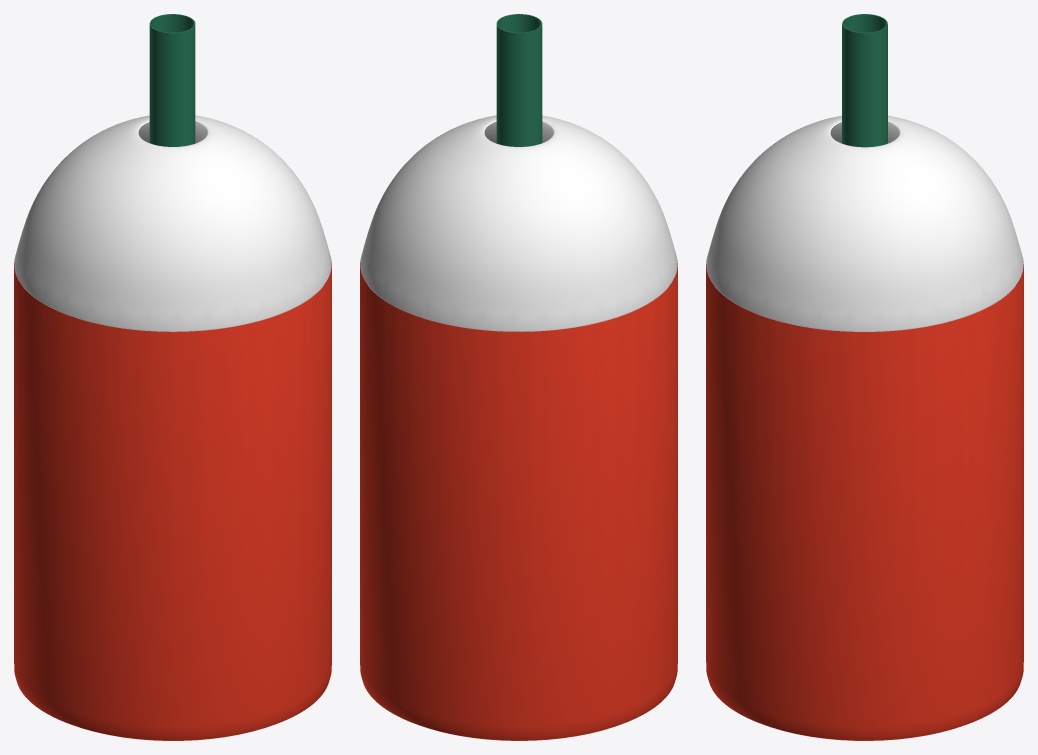
The model's file is FRAPPUCCINO.fbx.
3 renders of one model, left to right at view 1: azimuth 30°, elevation 25°; view 2: azimuth 150°, elevation 25°; view 3: azimuth 270°, elevation 25°, orthographic.
Parts seen in each view (by area): view 1: Button.002; view 2: Button.002; view 3: Button.002.
Part boxes in pixels (x1,y1,x2,y2): Button.002: (14,14,331,740); Button.002: (360,14,677,740); Button.002: (706,14,1023,740).
Bounding box in the file's own units: 68.93 × 157 × 68.93.
